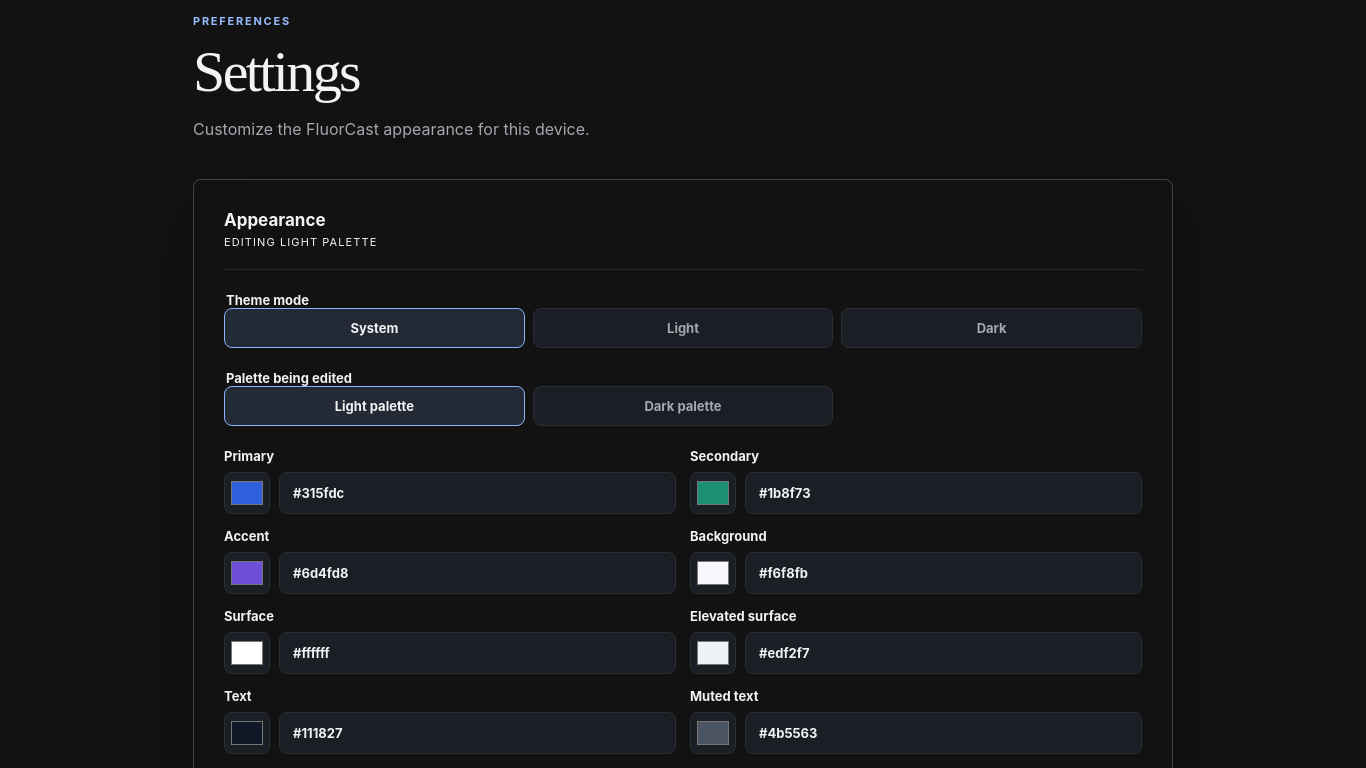
Test: SettingsPage › updates the real color controls from hex input
Replace the text in the field with id "light-primary-hex" with "#123456" at x=478, y=492, box [279,472,676,514]
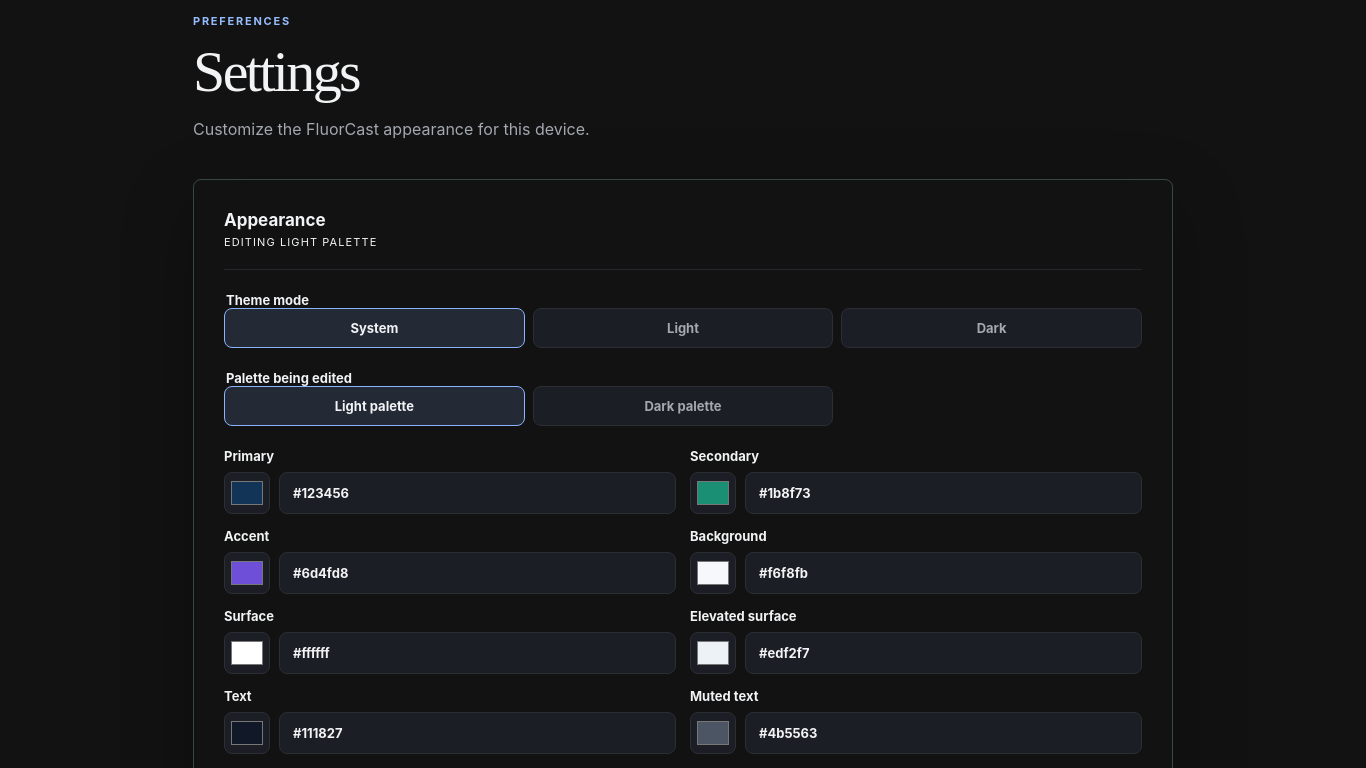
Expected: the colour field named "Primary color picker" holds "#123456", [224,472,270,514]
